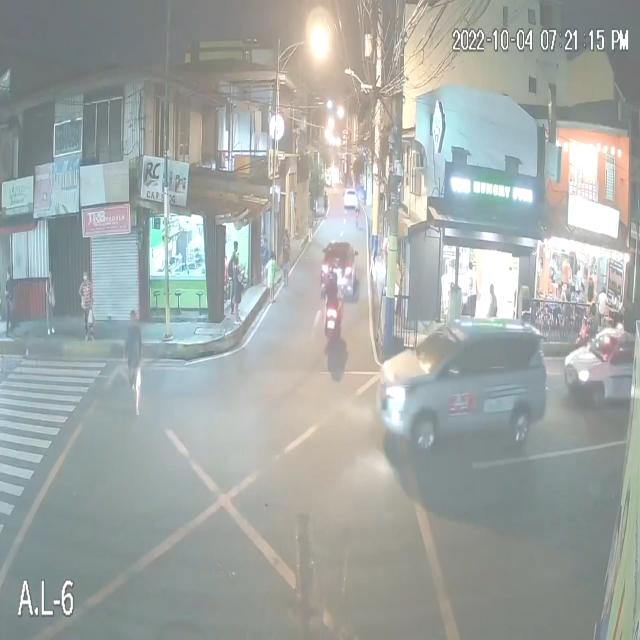Full-Faced: (334, 267, 344, 287), (327, 268, 334, 284)
